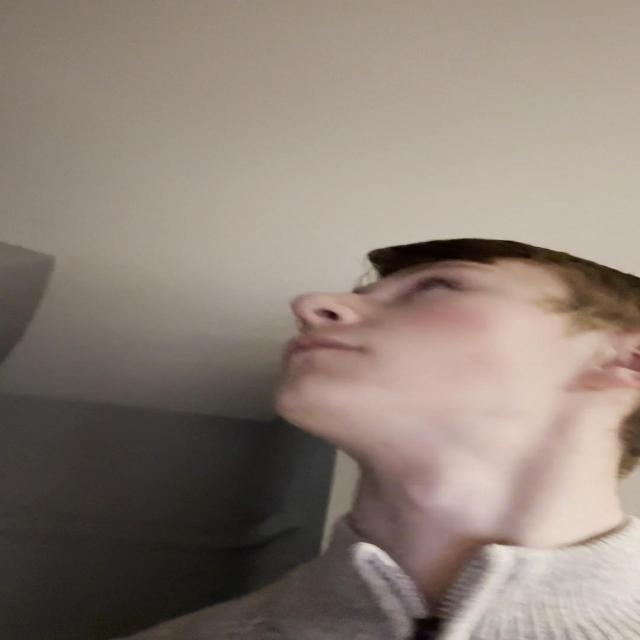no hat: (266, 238, 610, 458)
